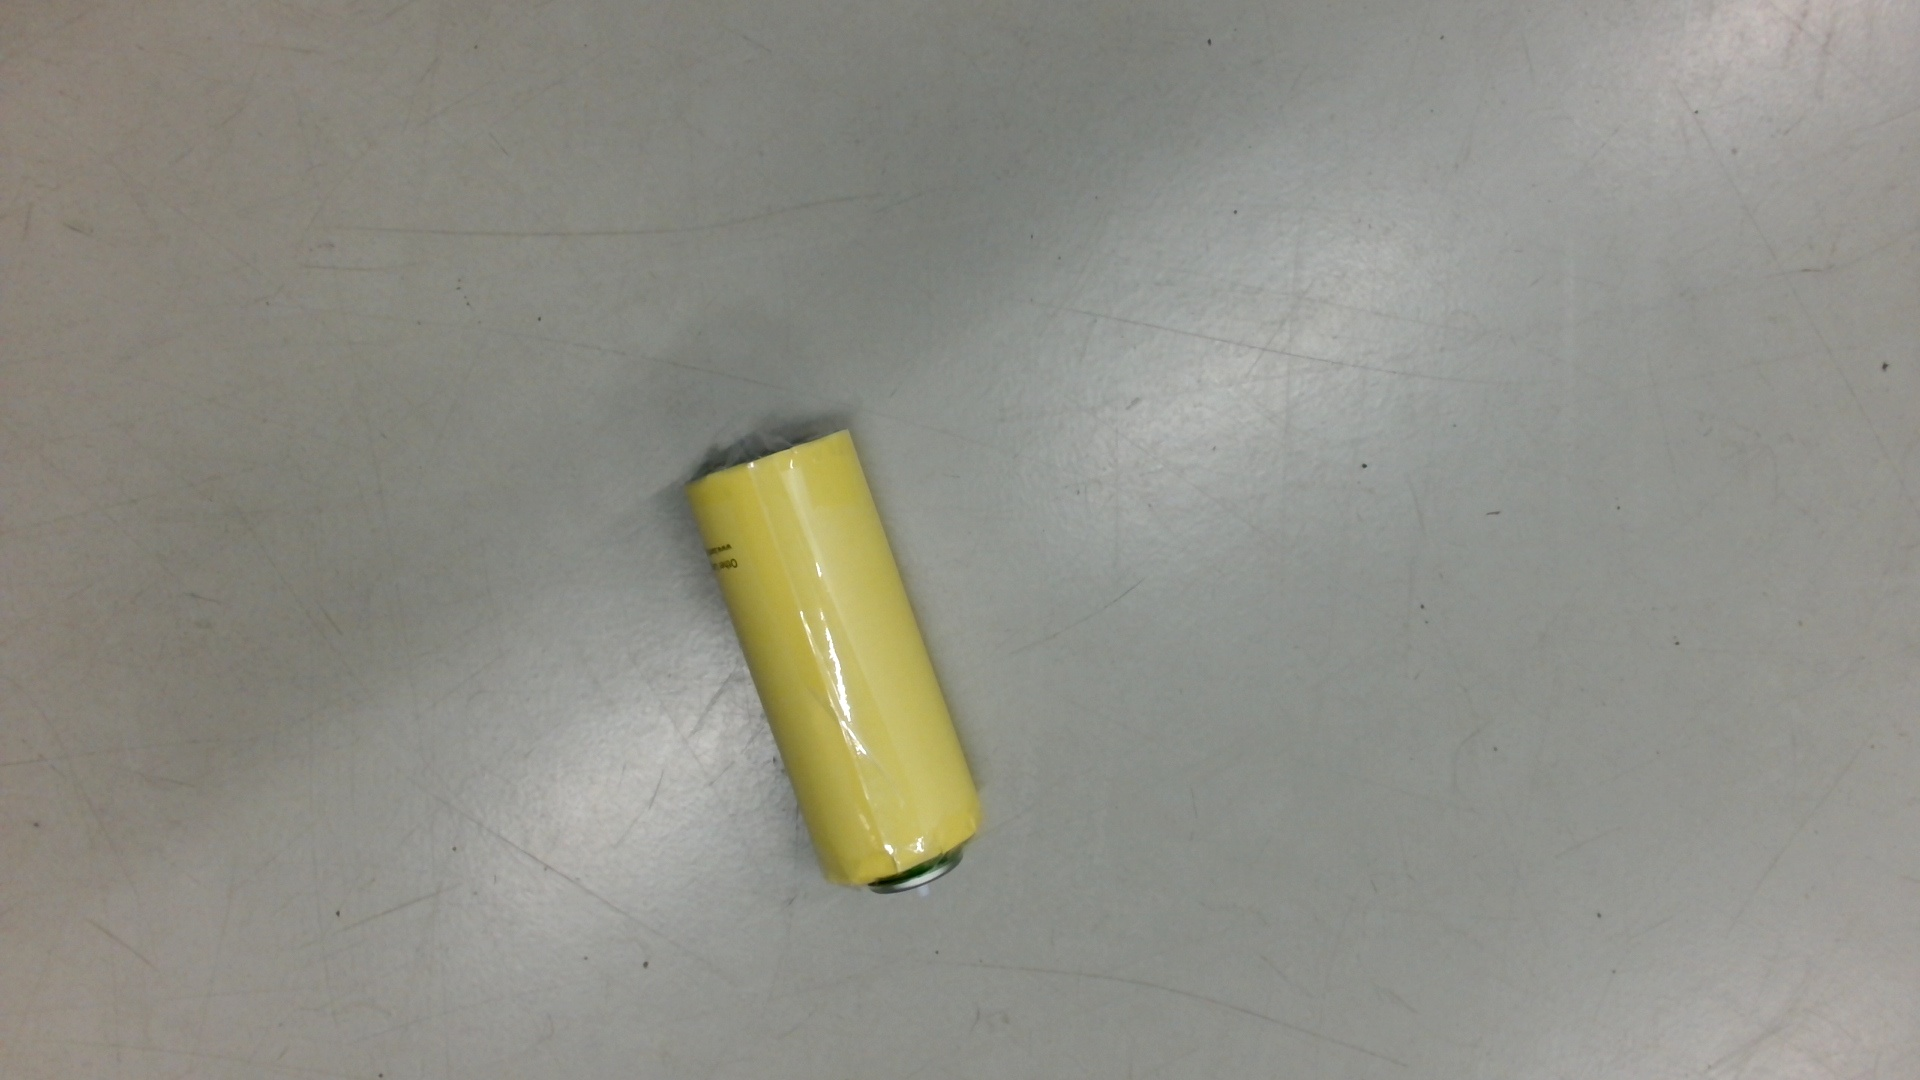Cylinder: (676, 415, 1004, 911)
